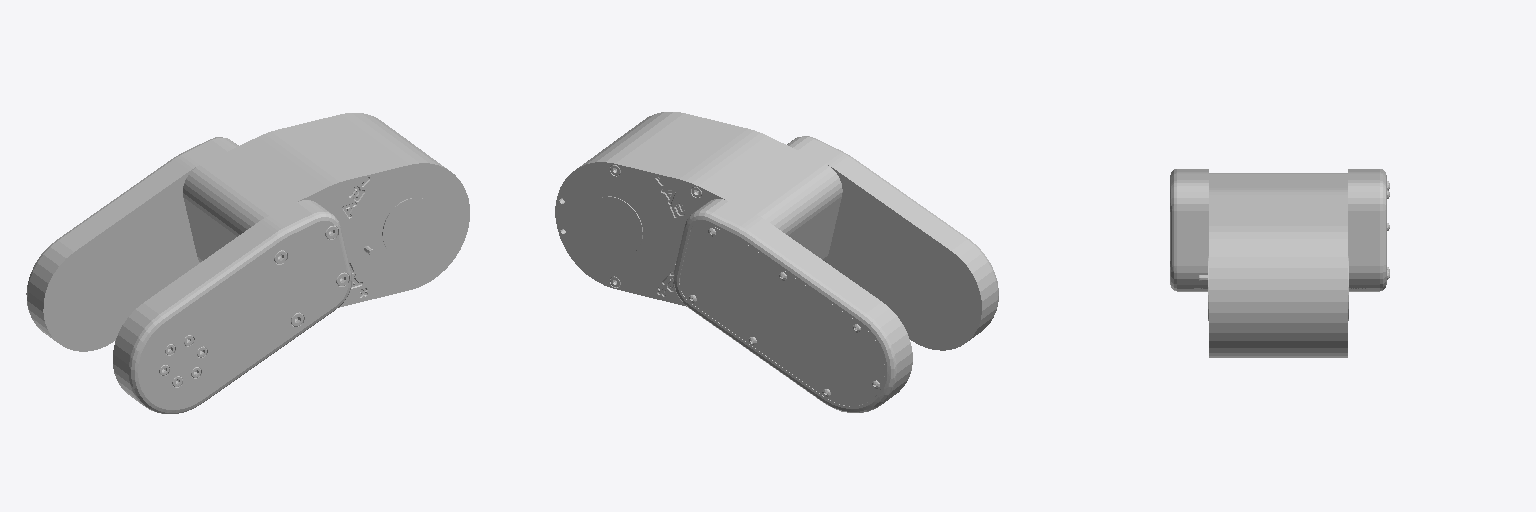
The model's file is meca500link_2.obj.
3 renders of one model, left to right at view 1: azimuth 30°, elevation 25°; view 2: azimuth 150°, elevation 25°; view 3: azimuth 270°, elevation 25°, orthographic.
Parts seen in each view (by area): view 1: Solid1; view 2: Solid1; view 3: Solid1.
Boxes of the visible parts, x1=… form: Solid1: x1=26, y1=113, x2=469, y2=413; Solid1: x1=555, y1=112, x2=998, y2=412; Solid1: x1=1170, y1=169, x2=1389, y2=357.
Size of the model in its own units: 0.1909 by 0.0898 by 0.1014.